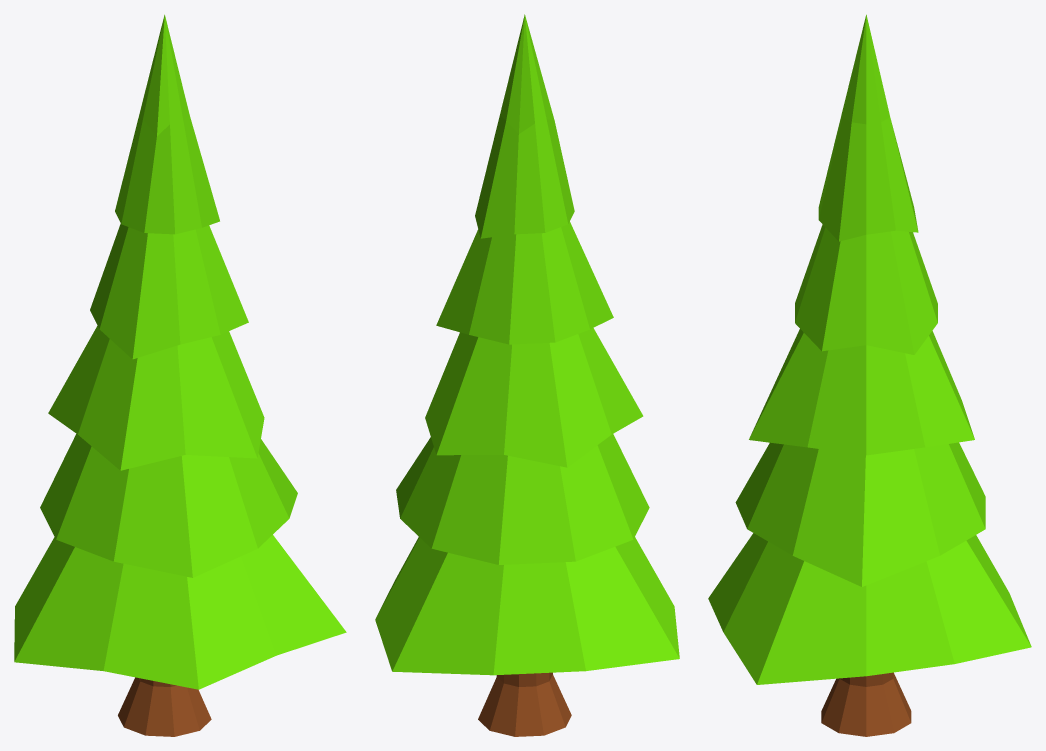
The model's file is pohon cemara .fbx.
3 renders of one model, left to right at view 1: azimuth 30°, elevation 25°; view 2: azimuth 150°, elevation 25°; view 3: azimuth 270°, elevation 25°, orthographic.
Parts seen in each view (by area): view 1: pohon, kaki pohon; view 2: pohon, kaki pohon; view 3: pohon, kaki pohon.
Part boxes in pixels (left/top/right/bottom): pohon: left=14, top=14, right=346, bottom=689; kaki pohon: left=118, top=677, right=211, bottom=736; pohon: left=375, top=14, right=679, bottom=675; kaki pohon: left=478, top=672, right=571, bottom=736; pohon: left=708, top=14, right=1031, bottom=684; kaki pohon: left=821, top=672, right=911, bottom=736.
Size of the model in its own units: 205 by 486 by 203.
